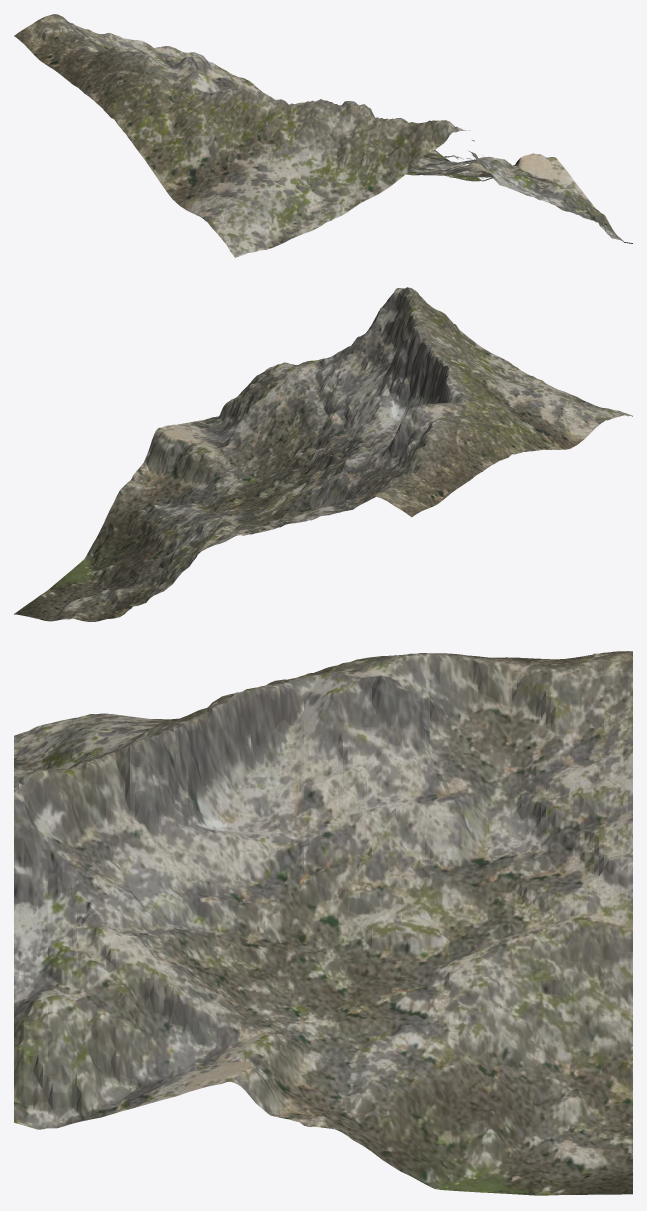
The picture shows the model from 3 angles, top to bottom: view 1: azimuth 30°, elevation 25°; view 2: azimuth 150°, elevation 25°; view 3: azimuth 270°, elevation 25°; orthographic projection. The views are drawn at different scales.
Bounding box in the file's own units: 500 × 264 × 481.
1 material, 1 textured.
